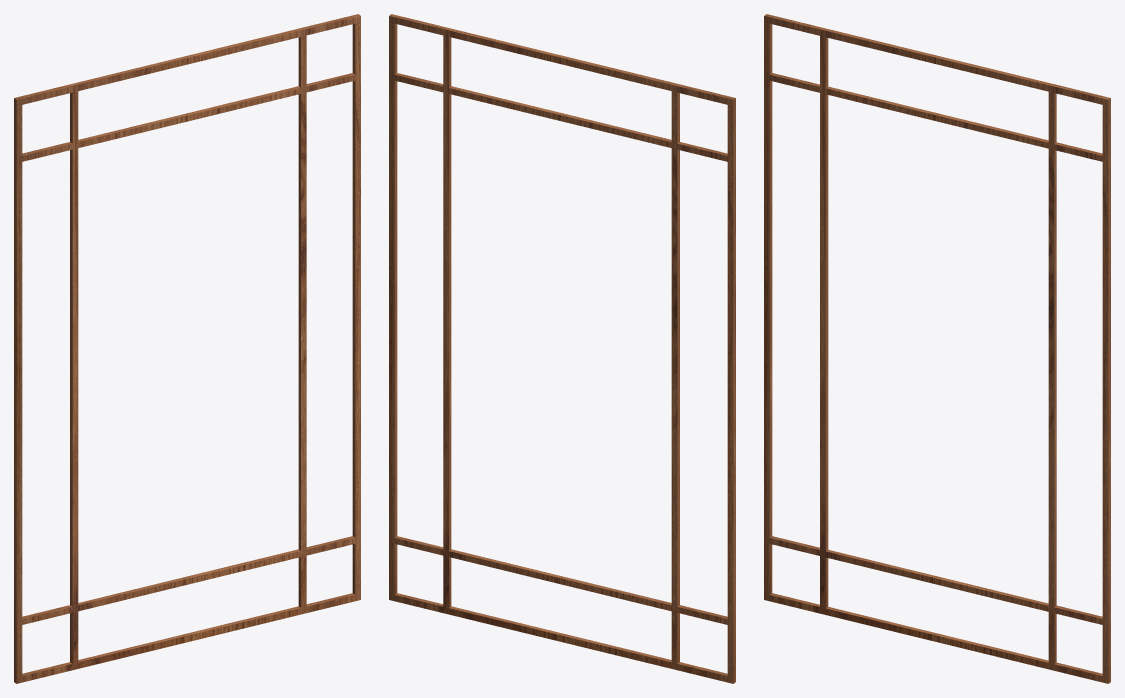
The model's file is Normal_Big_Fractional.obj.
The picture shows the model from 3 angles, left to right: view 1: azimuth 30°, elevation 25°; view 2: azimuth 150°, elevation 25°; view 3: azimuth 330°, elevation 25°; orthographic projection.
Visible parts, largest first — view 1: Big_Fractional; view 2: Big_Fractional; view 3: Big_Fractional.
Part boxes in pixels (x1,y1,x2,y2): Big_Fractional: [14, 14, 360, 683]; Big_Fractional: [389, 14, 735, 683]; Big_Fractional: [764, 14, 1110, 683].
Size of the model in its own units: 8.47 by 13.72 by 0.1062.
1 material, 1 textured.
